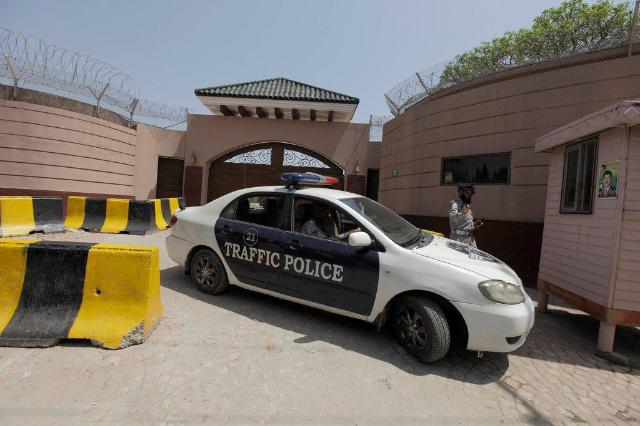police: (165, 175, 544, 366)
